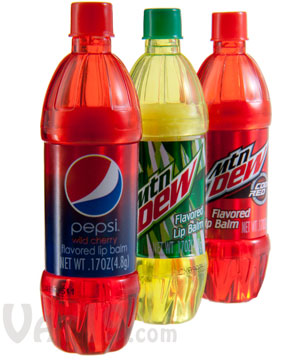Rec_Plastic: (36, 1, 140, 353), (123, 3, 213, 326), (198, 3, 275, 316)
